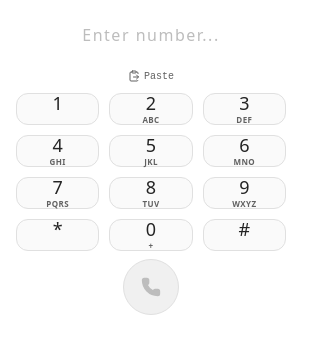
it: DialerPad Component › updates display when keypad digits are clicked
Click the button "1" at (58, 109), box [16,93,99,125]
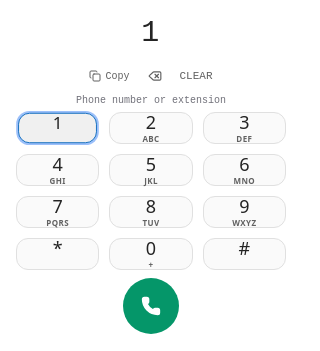
Click the text "0" at (151, 248), box [146,239,156,257]
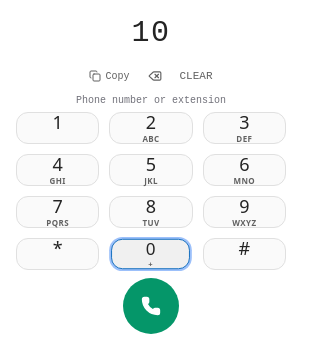
Click the text "0" at (151, 248), box [146,240,156,257]
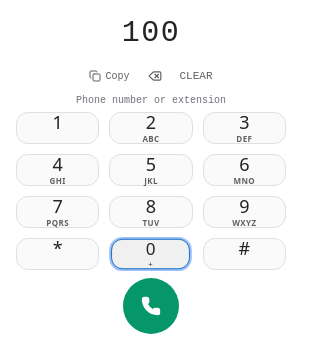
Click the text "2" at (151, 122), box [146,113,156,131]
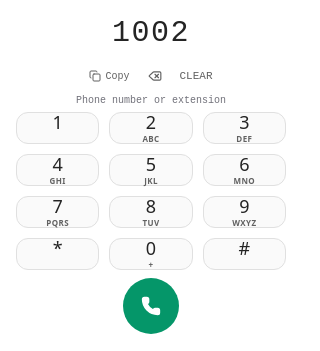
Expected: the text with test id "dial-display" reads "1002", [112,16,190,50]
